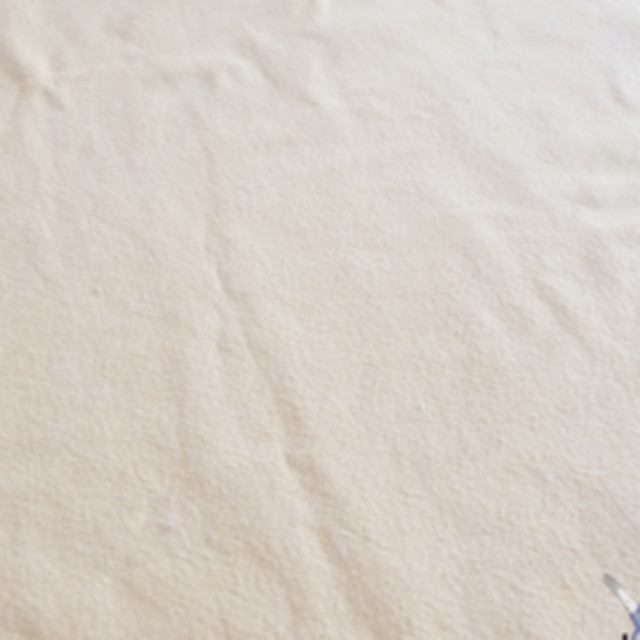scissors: (603, 573, 640, 640)
